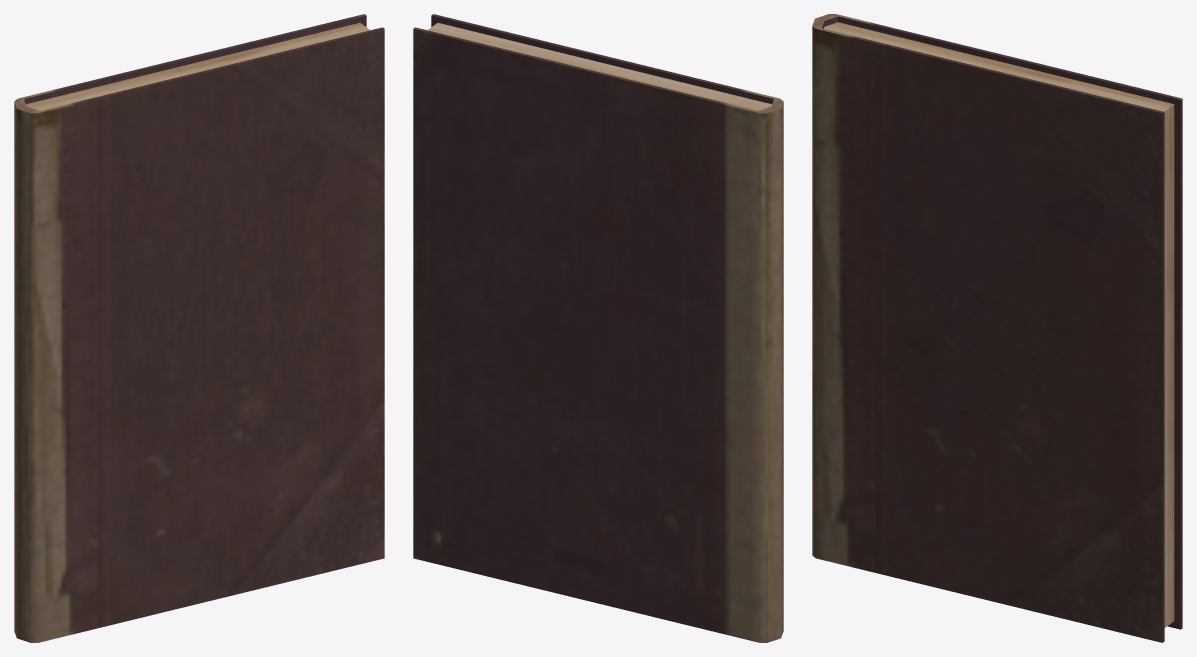
Rendered from SM_Book_Old.013.fbx.
3 views of the same model, side by side, from view 1: azimuth 30°, elevation 25°; view 2: azimuth 150°, elevation 25°; view 3: azimuth 330°, elevation 25° (orthographic).
Parts seen in each view (by area): view 1: SM_Book_Old.013; view 2: SM_Book_Old.013; view 3: SM_Book_Old.013.
Boxes of the visible parts, x1=… form: SM_Book_Old.013: x1=14, y1=14, x2=384, y2=642; SM_Book_Old.013: x1=413, y1=14, x2=783, y2=642; SM_Book_Old.013: x1=812, y1=14, x2=1182, y2=642.
Bounding box in the file's own units: 0.1995 × 0.2822 × 0.0195.
